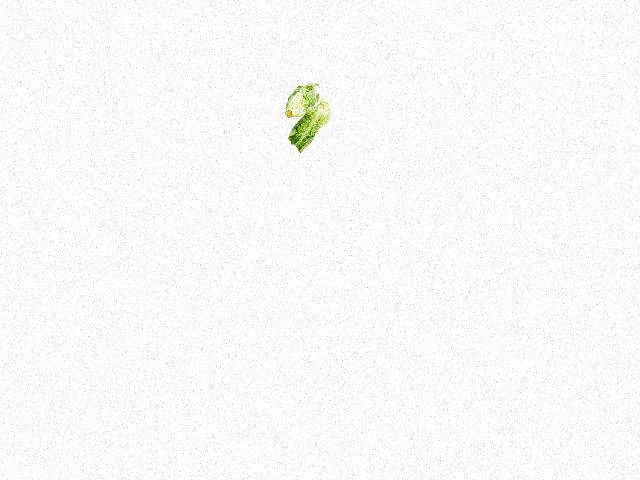lettuce: (279, 81, 320, 120)
